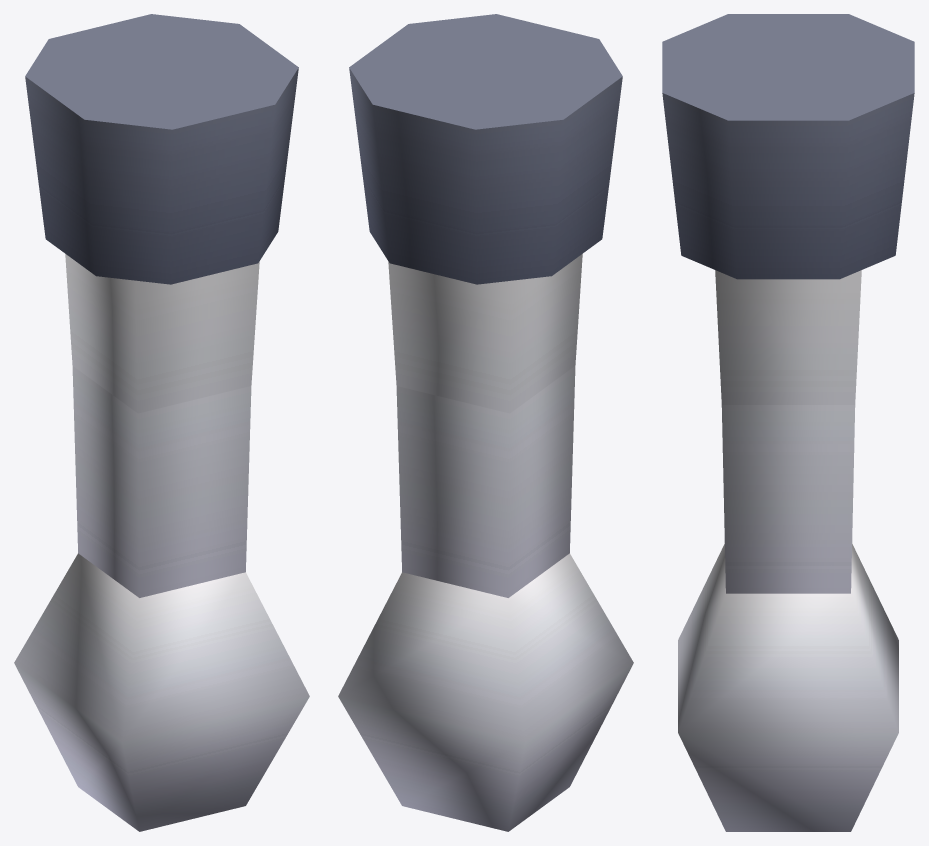
Rendered from aid-cane-blind.glb.
3 renders of one model, left to right at view 1: azimuth 30°, elevation 25°; view 2: azimuth 150°, elevation 25°; view 3: azimuth 270°, elevation 25°, orthographic.
Parts seen in each view (by area): view 1: aid-cane-blind; view 2: aid-cane-blind; view 3: aid-cane-blind.
Part boxes in pixels (<box>): aid-cane-blind: <box>14,14,309,831</box>; aid-cane-blind: <box>338,14,633,831</box>; aid-cane-blind: <box>662,14,914,831</box>.
Size of the model in its own units: 0.096 by 0.31 by 0.096.
Materials: 1 (1 with a texture image).
